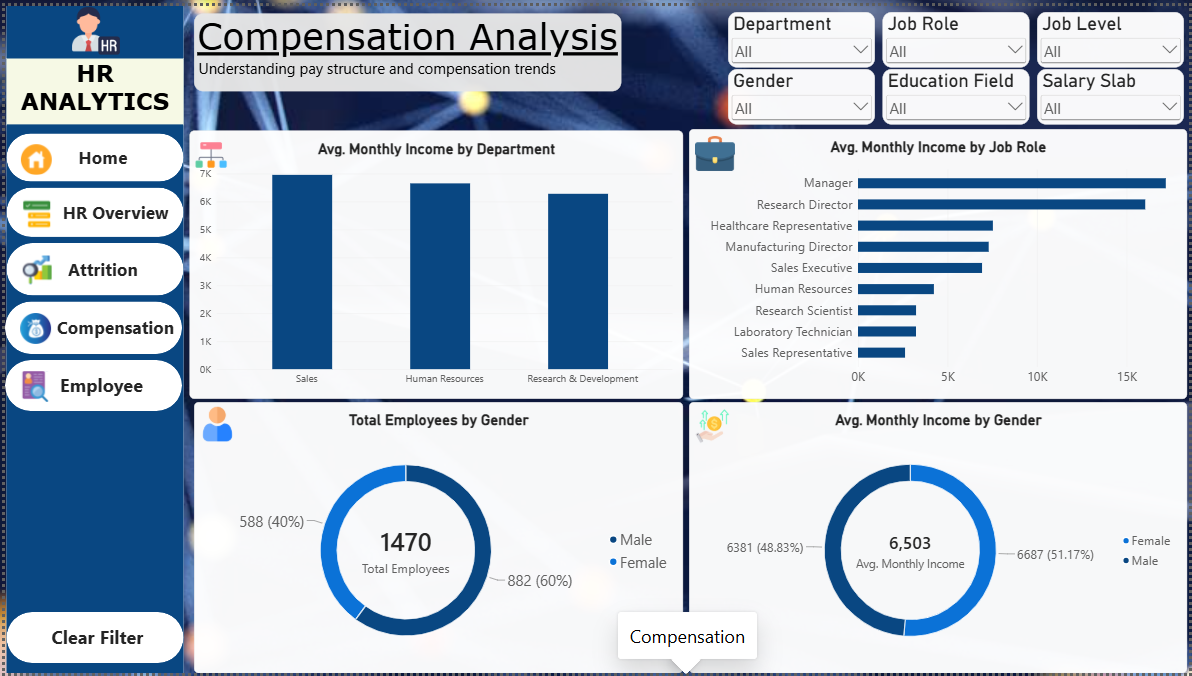

This screenshot's page, from the dashboard's own definition file:
{"tool":"powerbi","page":{"name":"Compensation","canvas":[1920,1080],"ordinal":3},"visuals":[{"type":"group","id":"g1","title":"Group 8","box":[0.4,0,288.6,1080.8],"z":0},{"type":"shape","box":[2.4,87.4,286.6,106.9],"z":0,"group":"g2"},{"type":"shape","box":[2.4,0,286.6,1080.8],"z":1000,"group":"g2"},{"type":"textbox","box":[306,12.1,692.2,126.3],"z":1000},{"type":"actionButton","title":"Home","box":[2.4,206.5,286.6,77.7],"z":2000,"group":"g2"},{"type":"textbox","box":[2.4,85,286.6,106.9],"z":3000,"group":"g2"},{"type":"slicer","fields":{"Values":["Dim_Department.Department"]},"box":[1170.7,9.7,238,89.9],"z":4000,"group":"g3"},{"type":"actionButton","title":"Home","box":[2.4,293.9,286.6,80.2],"z":4000,"group":"g2"},{"type":"actionButton","title":"Home","box":[2.4,383.8,286.6,85],"z":5000,"group":"g2"},{"type":"actionButton","title":"Home","box":[1.3,478.5,286.6,85],"z":7000,"group":"g2"},{"type":"actionButton","title":"Home","box":[2.4,981.3,286.6,82.6],"z":9000,"group":"g2"},{"type":"barChart","title":"Avg. Monthly Income by Job Role","fields":{"Category":["Dim_Job.JobRole"],"Y":["Measure.Avg. Monthly Income"]},"box":[1107.6,199.2,806.4,437.2],"z":10000,"group":"g4"},{"type":"actionButton","title":"Home","box":[0.4,573.2,286.6,82.6],"z":10000,"group":"g2"},{"type":"donutChart","title":"Avg. Monthly Income by Gender","fields":{"Category":["Dim_Employee.Gender"],"Y":["Measure.Avg. Monthly Income"]},"box":[1107.6,641.4,806.4,439.6],"z":11000,"group":"g5"},{"type":"group","id":"g2","title":"Group 1","box":[0.4,0,288.6,1080.8],"z":11001,"group":"g1"},{"type":"image","box":[89.8,0,114.2,80.2],"z":11501,"group":"g1"},{"type":"donutChart","fields":{"Category":["Dim_Employee.Gender"],"Y":["Measure.Total Employees"]},"box":[306,641.4,791.8,439.6],"z":12000,"group":"g6"},{"type":"columnChart","fields":{"Category":["Dim_Department.Department"],"Y":["Measure.Avg. Monthly Income"]},"box":[298.7,201.6,799.1,434.8],"z":13000,"group":"g8"},{"type":"image","box":[1117.6,207.2,64.9,64.4],"z":19000,"group":"g4"},{"type":"image","box":[1117.3,651.1,55.9,58.3],"z":21000,"group":"g5"},{"type":"image","box":[315.9,645,56.4,66.6],"z":22000,"group":"g6"},{"type":"image","box":[305.9,209.7,55.5,64.8],"z":23000,"group":"g8"},{"type":"slicer","fields":{"Values":["Dim_Job.JobRole"]},"box":[1420.9,9.7,238,89.9],"z":23001,"group":"g3"},{"type":"slicer","fields":{"Values":["Dim_Job.JobLevel"]},"box":[1671,9.7,238,89.9],"z":23002,"group":"g3"},{"type":"slicer","fields":{"Values":["Dim_Employee.Gender"]},"box":[1170.7,102,238,89.9],"z":23003,"group":"g3"},{"type":"slicer","fields":{"Values":["Dim_Education.EducationField"]},"box":[1420.9,102,238,89.9],"z":23004,"group":"g3"},{"type":"slicer","fields":{"Values":["Fact_HR.SalarySlab"]},"box":[1671,102,238,89.9],"z":23005,"group":"g3"},{"type":"group","id":"g3","title":"Group 2","box":[1170.7,9.7,738.4,182.2],"z":23006},{"type":"group","id":"g4","title":"Group 3","box":[1107.6,199.2,806.4,437.2],"z":23007},{"type":"group","id":"g5","title":"Group 4","box":[1107.6,641.4,806.4,439.6],"z":23008},{"type":"group","id":"g6","title":"Group 5","box":[306,641.4,791.8,439.6],"z":23009},{"type":"group","id":"g7","title":"Group 6","box":[298.7,201.6,799.1,434.8],"z":23010},{"type":"group","id":"g8","title":"Group 7","box":[298.7,201.6,799.1,434.8],"z":23011,"group":"g7"}]}

Visuals, with their boxes in screenshot pixels (x1, y1, x2, y2), scaled from the page's 1920x1080 canvas onto the 1192x676 screenshot:
"Group 8" group: left=0, top=0, right=179, bottom=675
shape: left=1, top=55, right=179, bottom=122
shape: left=1, top=0, right=179, bottom=675
textbox: left=190, top=8, right=620, bottom=87
"Home" actionButton: left=1, top=129, right=179, bottom=178
textbox: left=1, top=53, right=179, bottom=120
slicer - Dim_Department.Department: left=727, top=6, right=875, bottom=62
"Home" actionButton: left=1, top=184, right=179, bottom=234
"Home" actionButton: left=1, top=240, right=179, bottom=293
"Home" actionButton: left=1, top=300, right=179, bottom=353
"Home" actionButton: left=1, top=614, right=179, bottom=666
"Avg. Monthly Income by Job Role" barChart: left=688, top=125, right=1188, bottom=398
"Home" actionButton: left=0, top=359, right=178, bottom=410
"Avg. Monthly Income by Gender" donutChart: left=688, top=401, right=1188, bottom=675
"Group 1" group: left=0, top=0, right=179, bottom=675
image: left=56, top=0, right=127, bottom=50
donutChart - Dim_Employee.Gender x Measure.Total Employees: left=190, top=401, right=682, bottom=675
columnChart - Dim_Department.Department x Measure.Avg. Monthly Income: left=185, top=126, right=682, bottom=398
image: left=694, top=130, right=734, bottom=170
image: left=694, top=408, right=728, bottom=444
image: left=196, top=404, right=231, bottom=445
image: left=190, top=131, right=224, bottom=172
slicer - Dim_Job.JobRole: left=882, top=6, right=1030, bottom=62
slicer - Dim_Job.JobLevel: left=1037, top=6, right=1185, bottom=62
slicer - Dim_Employee.Gender: left=727, top=64, right=875, bottom=120
slicer - Dim_Education.EducationField: left=882, top=64, right=1030, bottom=120
slicer - Fact_HR.SalarySlab: left=1037, top=64, right=1185, bottom=120
"Group 2" group: left=727, top=6, right=1185, bottom=120
"Group 3" group: left=688, top=125, right=1188, bottom=398
"Group 4" group: left=688, top=401, right=1188, bottom=675
"Group 5" group: left=190, top=401, right=682, bottom=675
"Group 6" group: left=185, top=126, right=682, bottom=398
"Group 7" group: left=185, top=126, right=682, bottom=398
